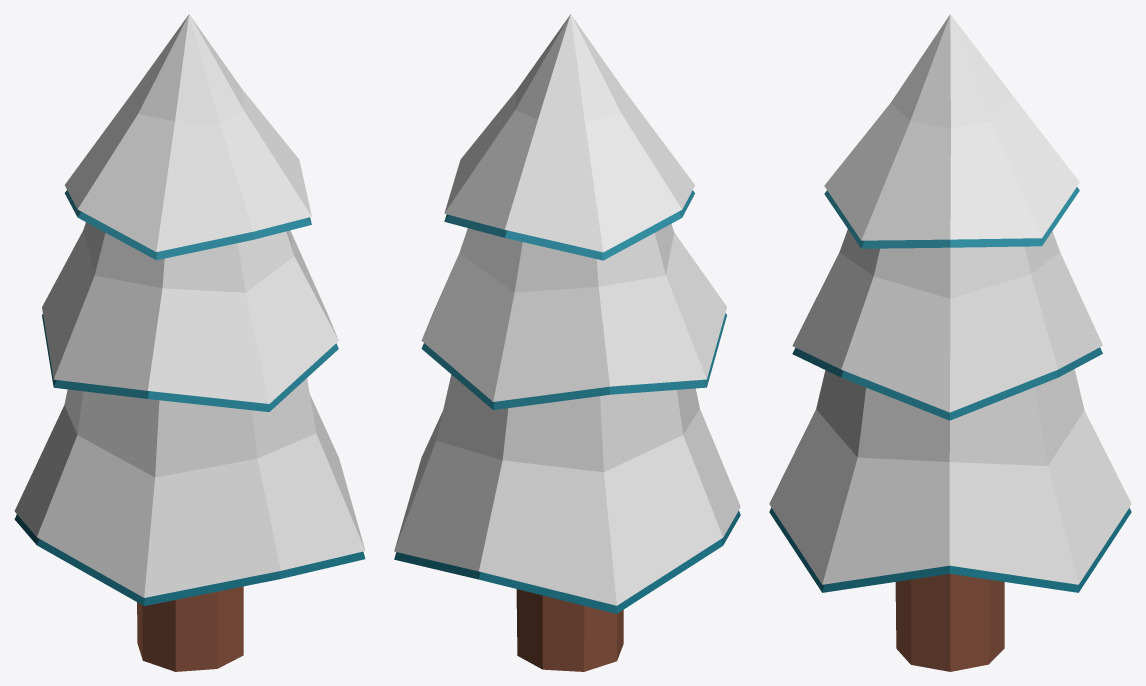
The model's file is Tree_01_winter_gradient_blue.fbx.
3 views of the same model, side by side, from view 1: azimuth 30°, elevation 25°; view 2: azimuth 150°, elevation 25°; view 3: azimuth 270°, elevation 25° (orthographic).
Parts seen in each view (by area): view 1: Tree_01_winter_gradient_blue; view 2: Tree_01_winter_gradient_blue; view 3: Tree_01_winter_gradient_blue.
Part boxes in pixels (box(x1,y1,x2,y2)): Tree_01_winter_gradient_blue: box(14, 14, 365, 671); Tree_01_winter_gradient_blue: box(394, 14, 740, 671); Tree_01_winter_gradient_blue: box(769, 14, 1131, 671).
Bounding box in the file's own units: 83.22 × 167 × 86.78.
